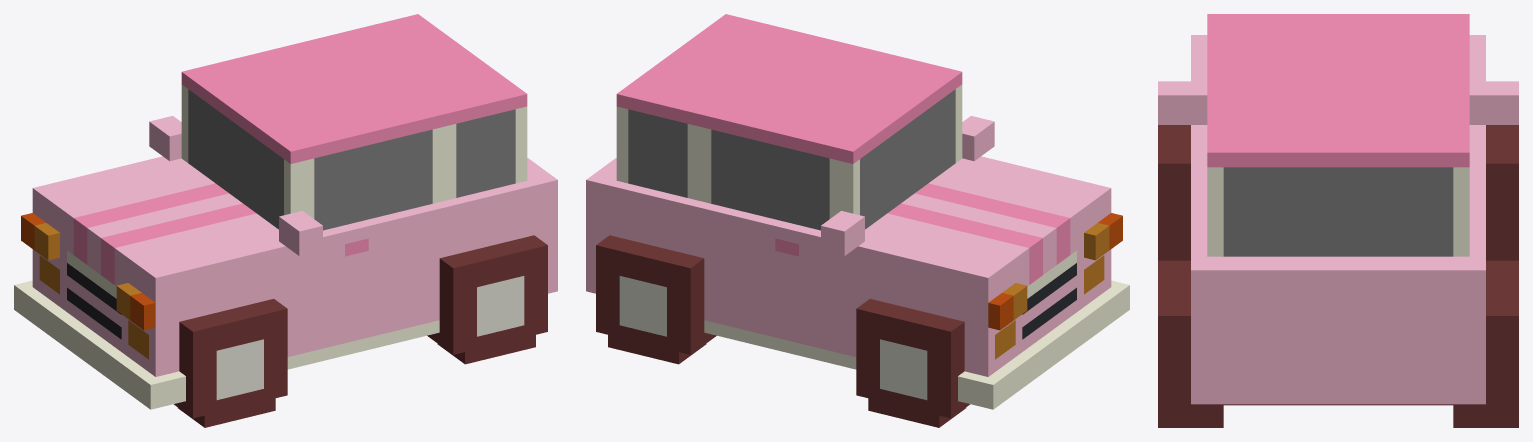
The model's file is car_pink_len_2.glb.
3 renders of one model, left to right at view 1: azimuth 30°, elevation 25°; view 2: azimuth 150°, elevation 25°; view 3: azimuth 270°, elevation 25°, orthographic. The views are drawn at different scales.
Visible parts, largest first — view 1: _0; view 2: _0; view 3: _0.
Part boxes in pixels (x1,y1,x2,y2): _0: [14, 14, 557, 427]; _0: [586, 14, 1129, 427]; _0: [1158, 14, 1518, 427].
Size of the model in its own units: 0.0525 by 0.0285 by 0.033.
